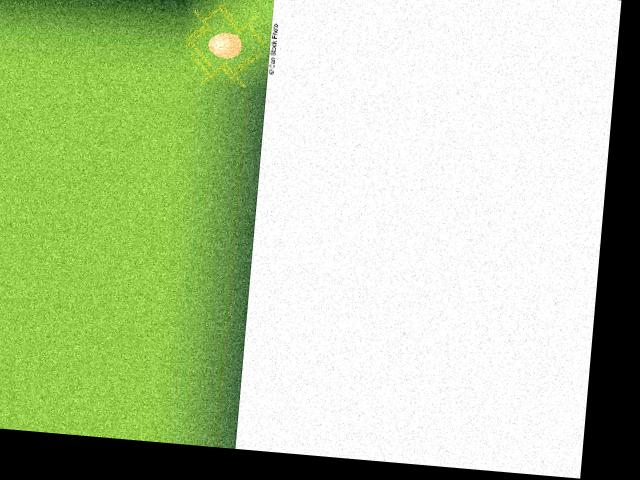egg: (207, 31, 242, 59)
